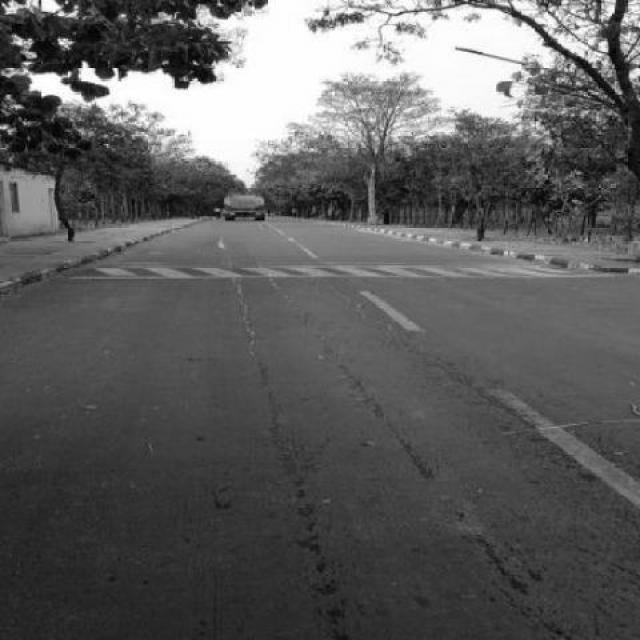Speed Bump: (62, 259, 621, 278)
